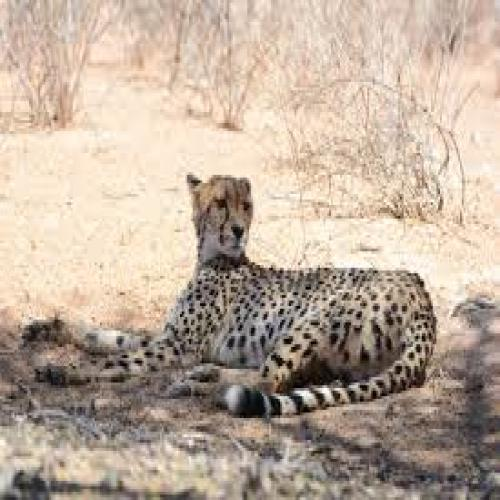cheetah-endangered: (34, 167, 440, 422)
